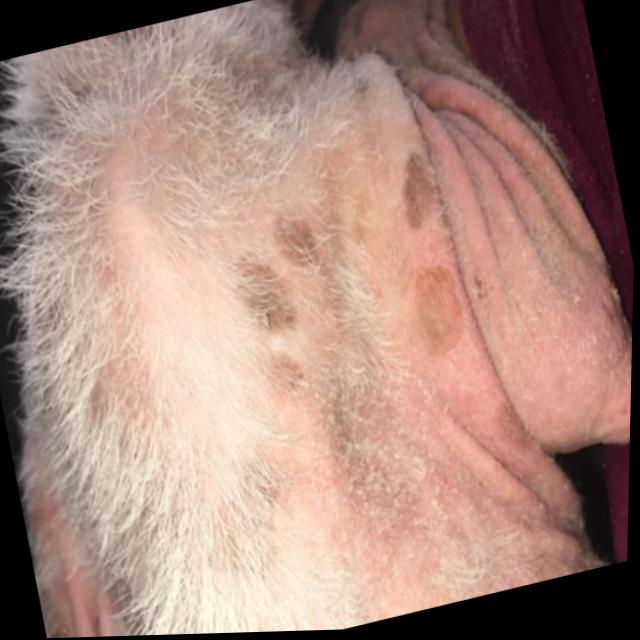ringworm: (392, 255, 480, 364)
